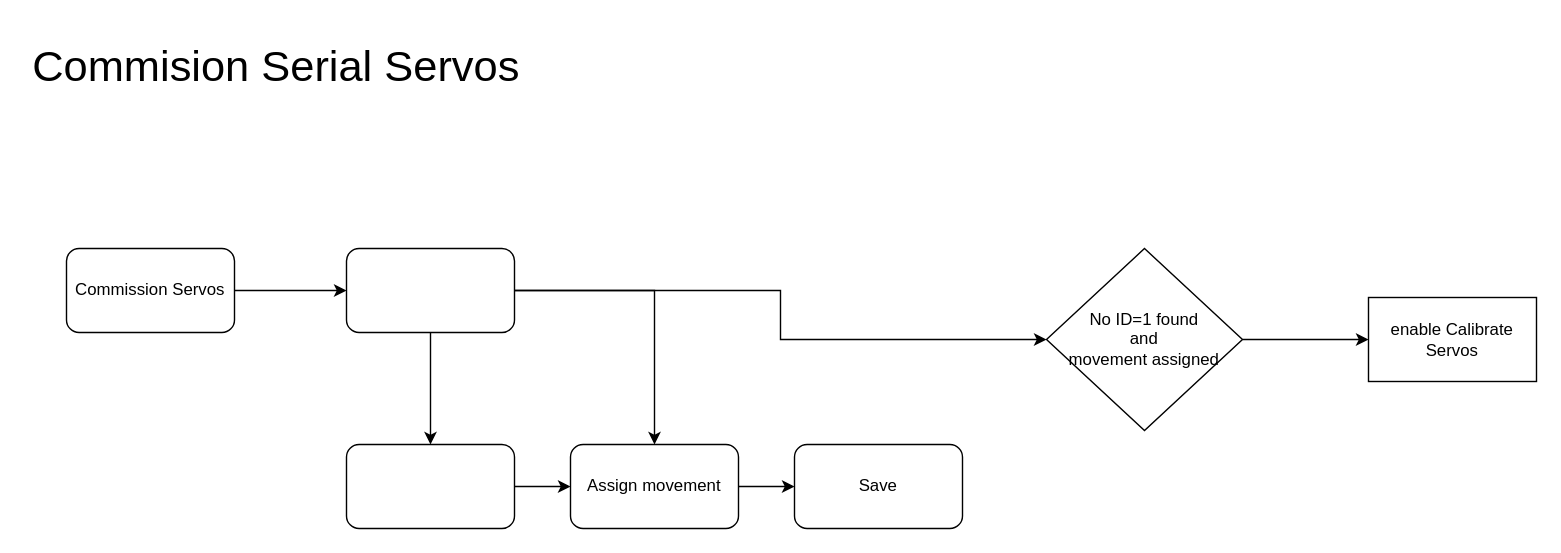
Image size: 1561x553. Some labels were removed from this diagram. The shapes that lost their labels are listed below. From the top down, each one's centre as x and y in pixels, then its label:
At (x=429, y=289): "Scan for servos".
At (x=429, y=485): "Assign ID (start with 2)".
